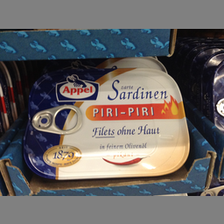fish: (25, 67, 189, 180)
